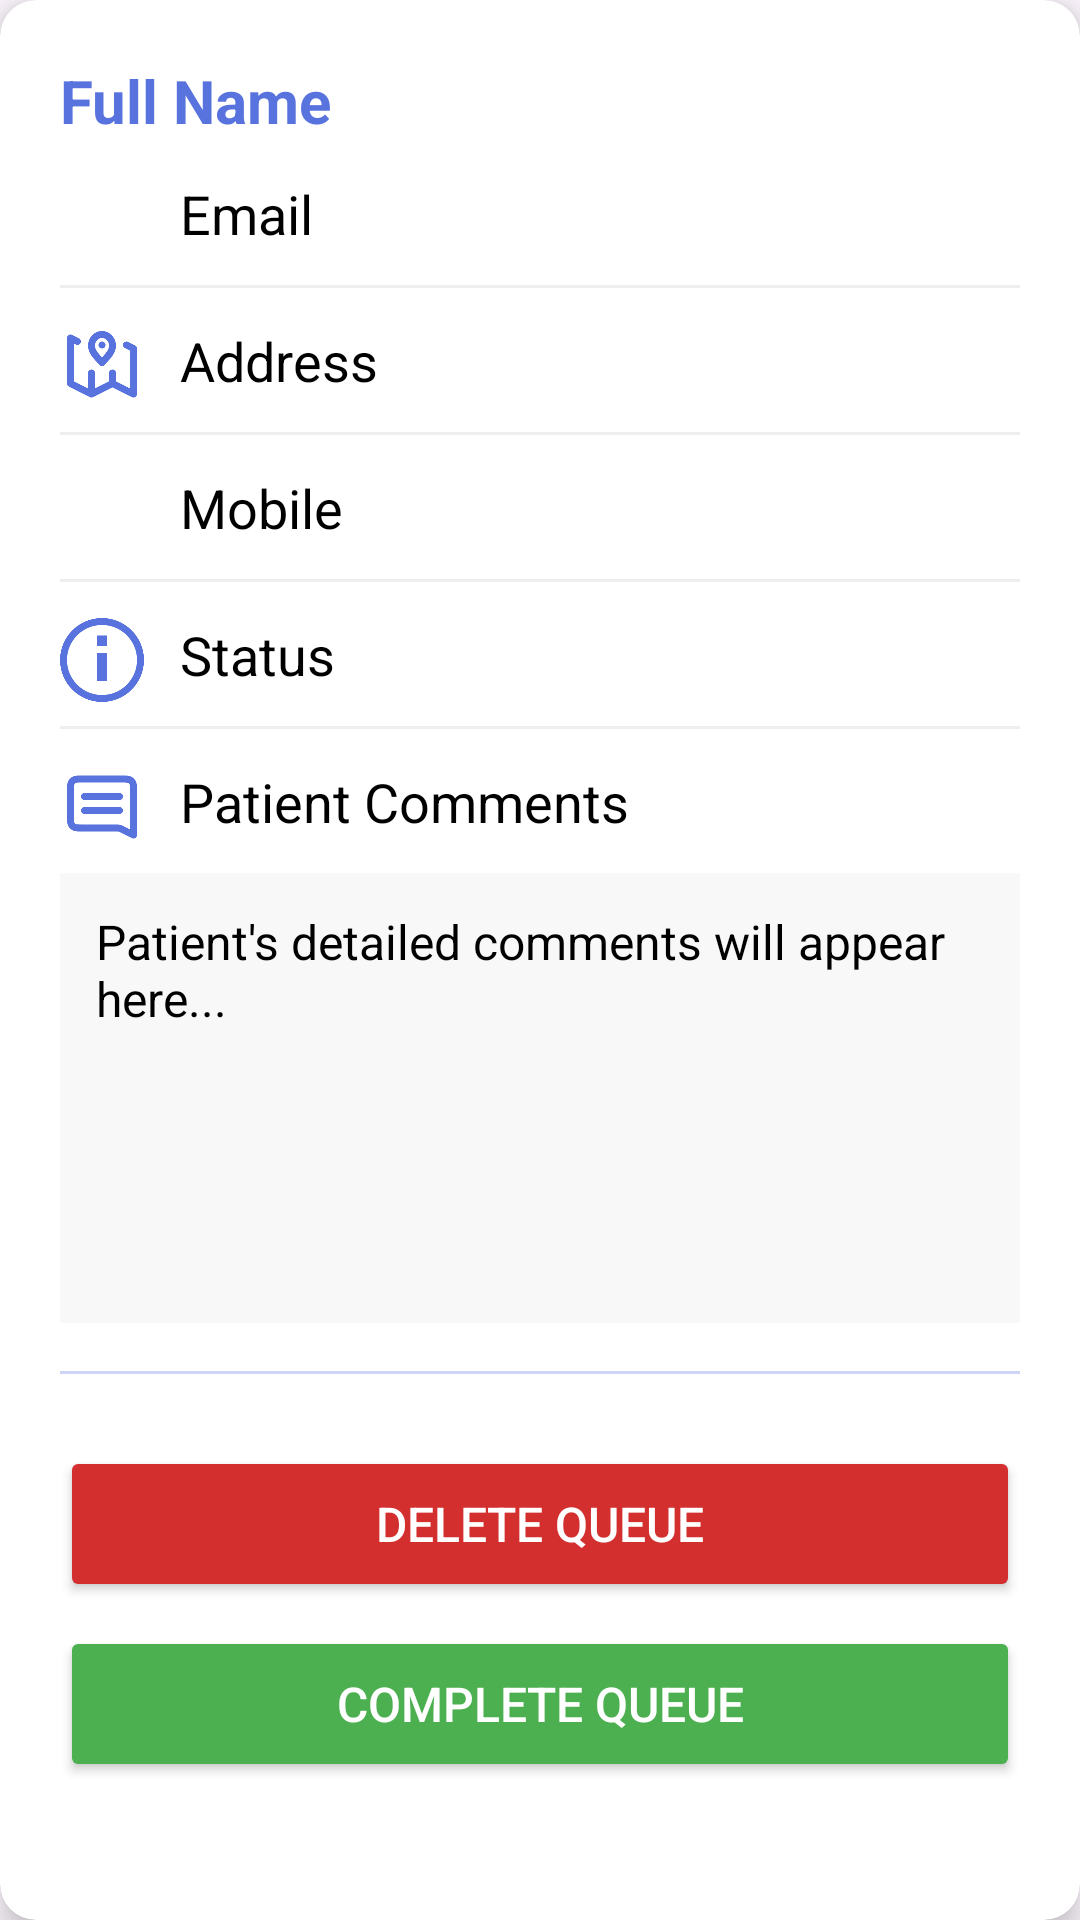

Icon bounding boxes for this 1080*1920 phone screenshot, format (x1=x1, y1=y1, x2=x2, y2=y2):
map: (x1=67, y1=331, x2=137, y2=398)
